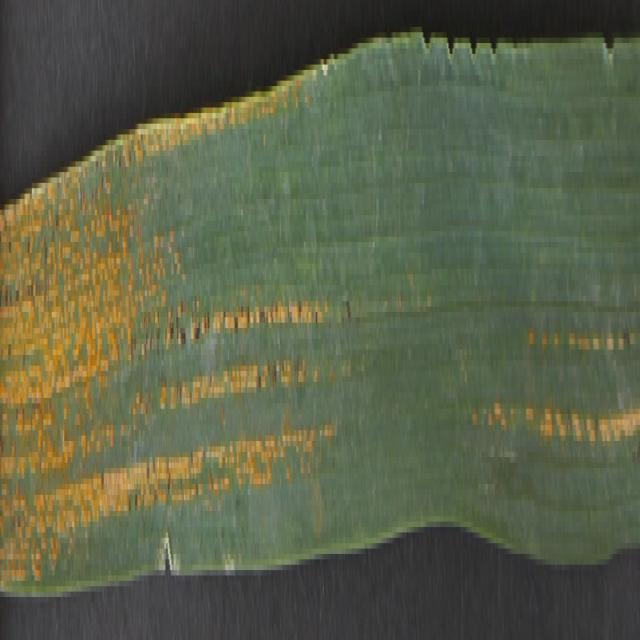leaf rust: (1, 97, 349, 575), (473, 248, 640, 500)
